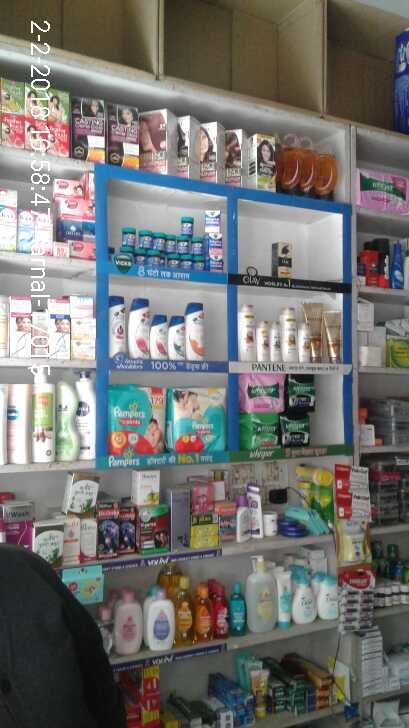beauty: (125, 293, 150, 359), (106, 298, 126, 366), (185, 302, 206, 360), (322, 309, 343, 366), (271, 237, 296, 280), (279, 303, 297, 359), (239, 301, 255, 363), (150, 313, 171, 360), (307, 296, 320, 361), (168, 316, 187, 359), (268, 319, 283, 363), (254, 322, 268, 360)
pharmacy: (107, 384, 167, 459), (173, 384, 225, 455), (356, 169, 409, 213), (239, 373, 287, 414), (285, 369, 320, 411), (240, 415, 281, 450), (281, 415, 310, 448), (202, 209, 223, 235), (175, 235, 194, 255), (179, 213, 194, 237), (152, 230, 167, 253), (208, 236, 223, 257), (136, 230, 154, 246), (121, 228, 137, 245), (208, 257, 225, 272), (190, 238, 204, 255), (164, 235, 177, 253)
